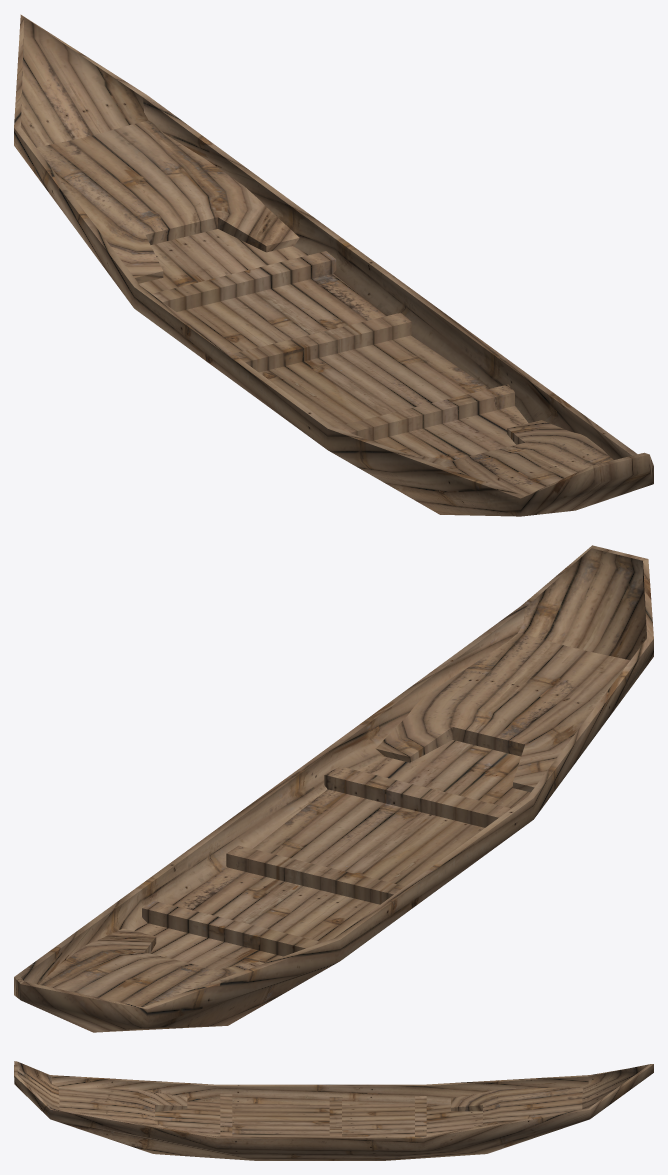
File: SM_Boat.fbx
3 renders of one model, top to bottom at view 1: azimuth 30°, elevation 25°; view 2: azimuth 150°, elevation 25°; view 3: azimuth 270°, elevation 25°, orthographic. The views are drawn at different scales.
Parts seen in each view (by area): view 1: Boat; view 2: Boat; view 3: Boat.
Boxes of the visible parts, x1,y1,x2,y2 form: Boat: [14, 14, 653, 516]; Boat: [14, 545, 653, 1032]; Boat: [14, 1061, 653, 1160].
Bounding box in the file's own units: 76.25 × 56.42 × 385.
1 material, 1 textured.
